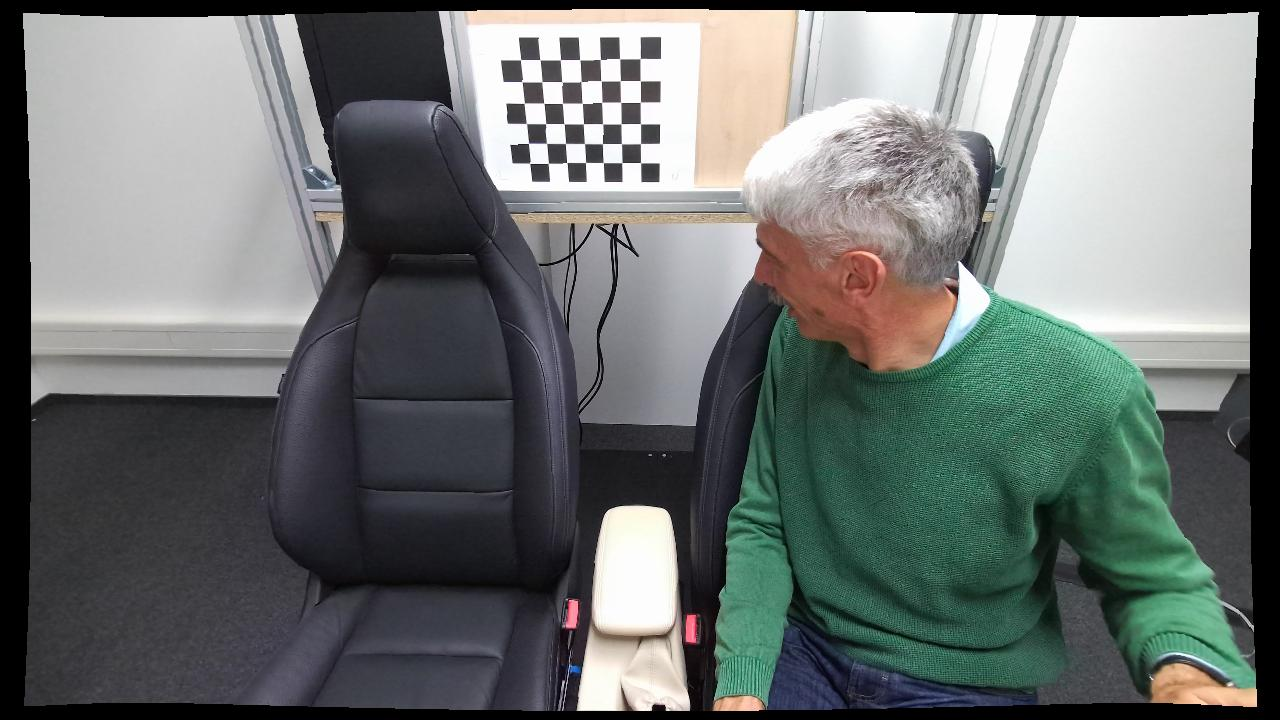Distracted: (690, 95, 1129, 709)
